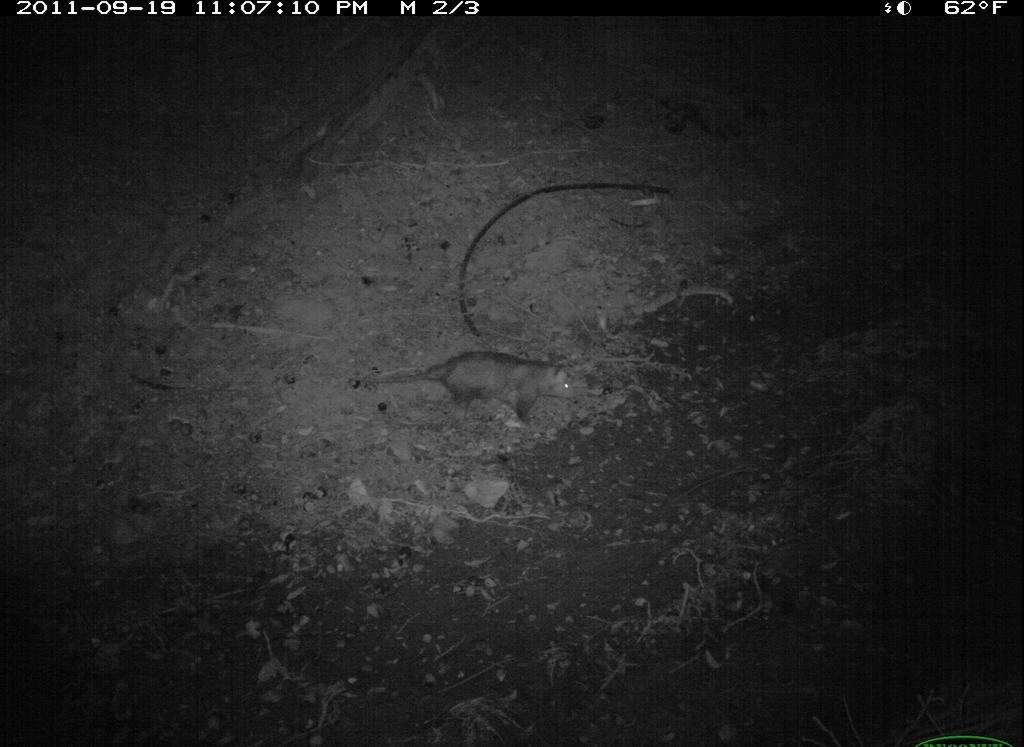opossum: (361, 349, 585, 434)
